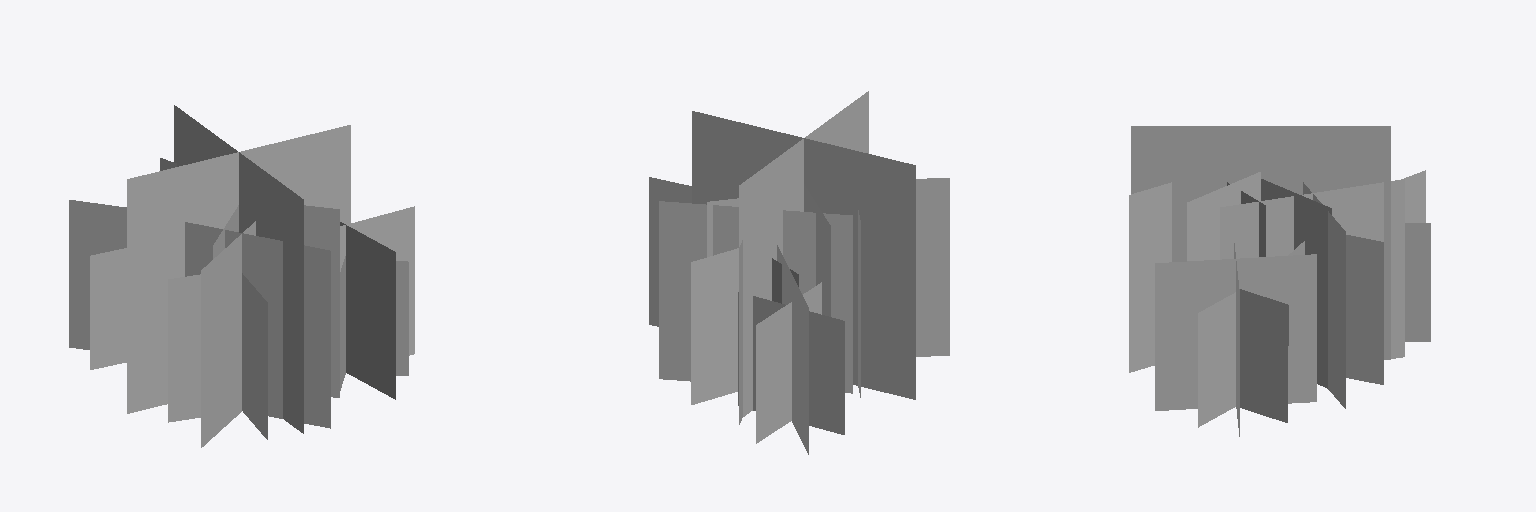
File: TALL_GRASS_1.obj
3 views of the same model, side by side, from view 1: azimuth 30°, elevation 25°; view 2: azimuth 150°, elevation 25°; view 3: azimuth 270°, elevation 25° (orthographic).
Parts seen in each view (by area): view 1: Plane; view 2: Plane; view 3: Plane.
Boxes of the visible parts, x1,y1,x2,y2 form: Plane: [69, 105, 414, 447]; Plane: [649, 91, 949, 454]; Plane: [1129, 126, 1430, 436].
Bounding box in the file's own units: 2.47 × 2 × 2.34.